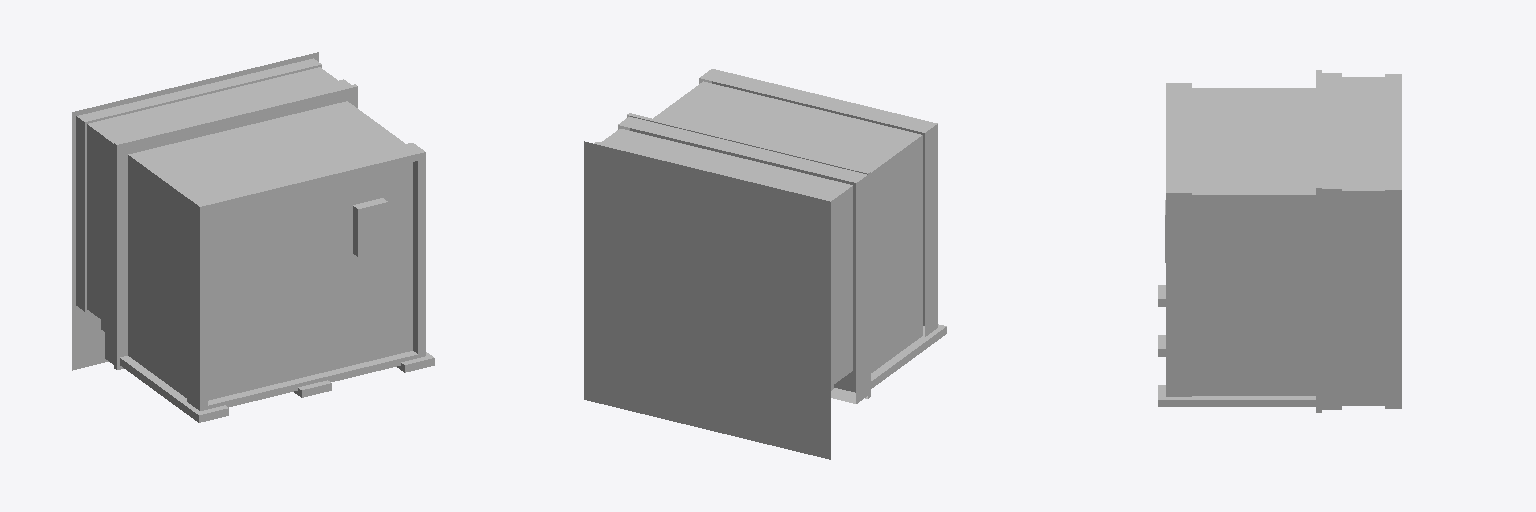
The model's file is ccity_beige.obj.
3 views of the same model, side by side, from view 1: azimuth 30°, elevation 25°; view 2: azimuth 150°, elevation 25°; view 3: azimuth 270°, elevation 25° (orthographic).
Parts seen in each view (by area): view 1: pasted__BD_ConcreteBlock1.004; view 2: pasted__BD_ConcreteBlock1.004; view 3: pasted__BD_ConcreteBlock1.004.
Part boxes in pixels (left/top/right/bottom): pasted__BD_ConcreteBlock1.004: left=72, top=52, right=434, bottom=422; pasted__BD_ConcreteBlock1.004: left=584, top=69, right=946, bottom=459; pasted__BD_ConcreteBlock1.004: left=1158, top=70, right=1401, bottom=412.
Size of the model in its own units: 18 by 18 by 15.38.